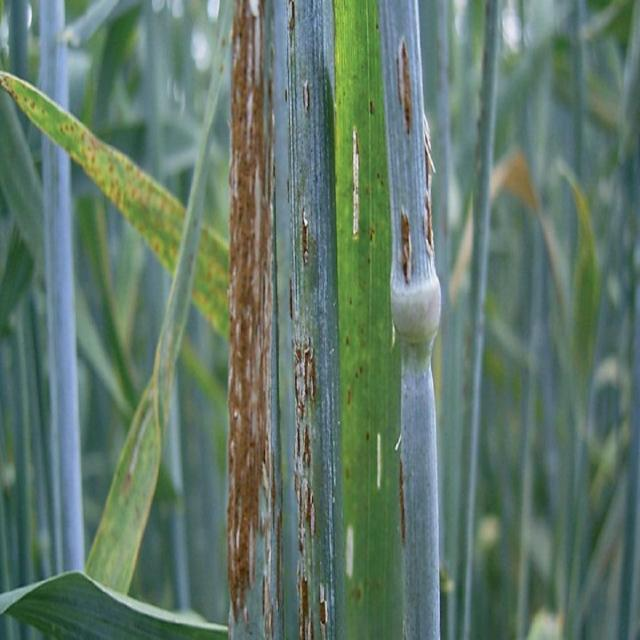wheat-stemrust: (228, 0, 440, 640)
